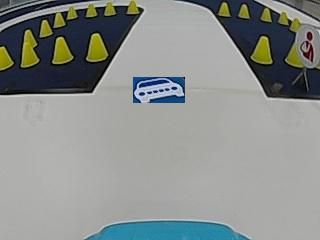cone: (85, 33, 107, 62), (51, 36, 73, 65), (20, 32, 38, 67), (251, 35, 272, 64), (284, 38, 302, 67), (0, 44, 13, 69), (40, 19, 53, 36), (217, 2, 231, 16), (125, 0, 138, 15), (103, 2, 116, 16), (288, 17, 301, 31), (54, 12, 66, 27), (85, 3, 97, 17), (238, 4, 250, 18), (260, 8, 272, 21), (66, 6, 77, 19), (278, 11, 288, 24)
patient: (296, 23, 318, 64)
